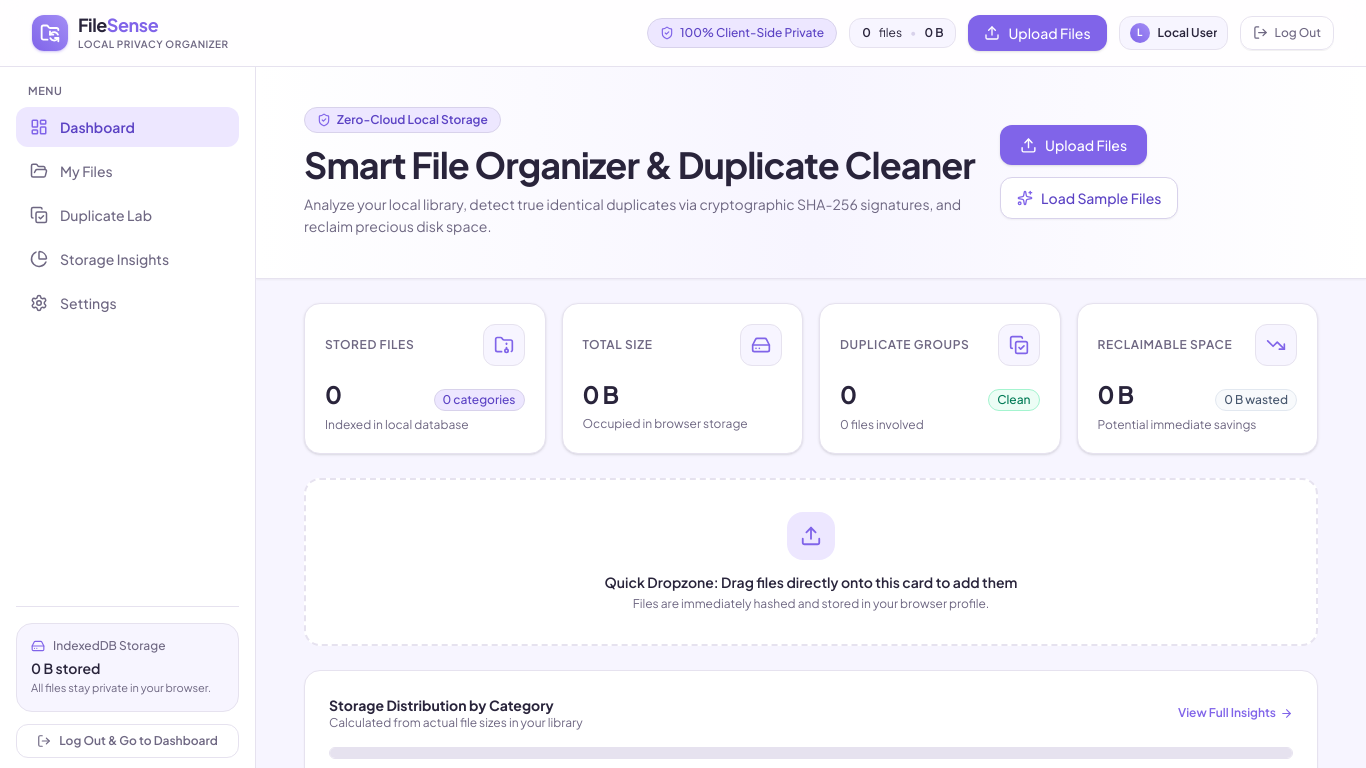
Test: User Interactions and App Integration › loads sample files and updates dashboard statistics
Expected: the heading "Smart File Organizer & Duplicate Cleaner" is shown, [304,144,976,184]
// Click "Load Sample Files"
Click the button "Load Sample Files": (1089,198) [1000,177,1178,219]
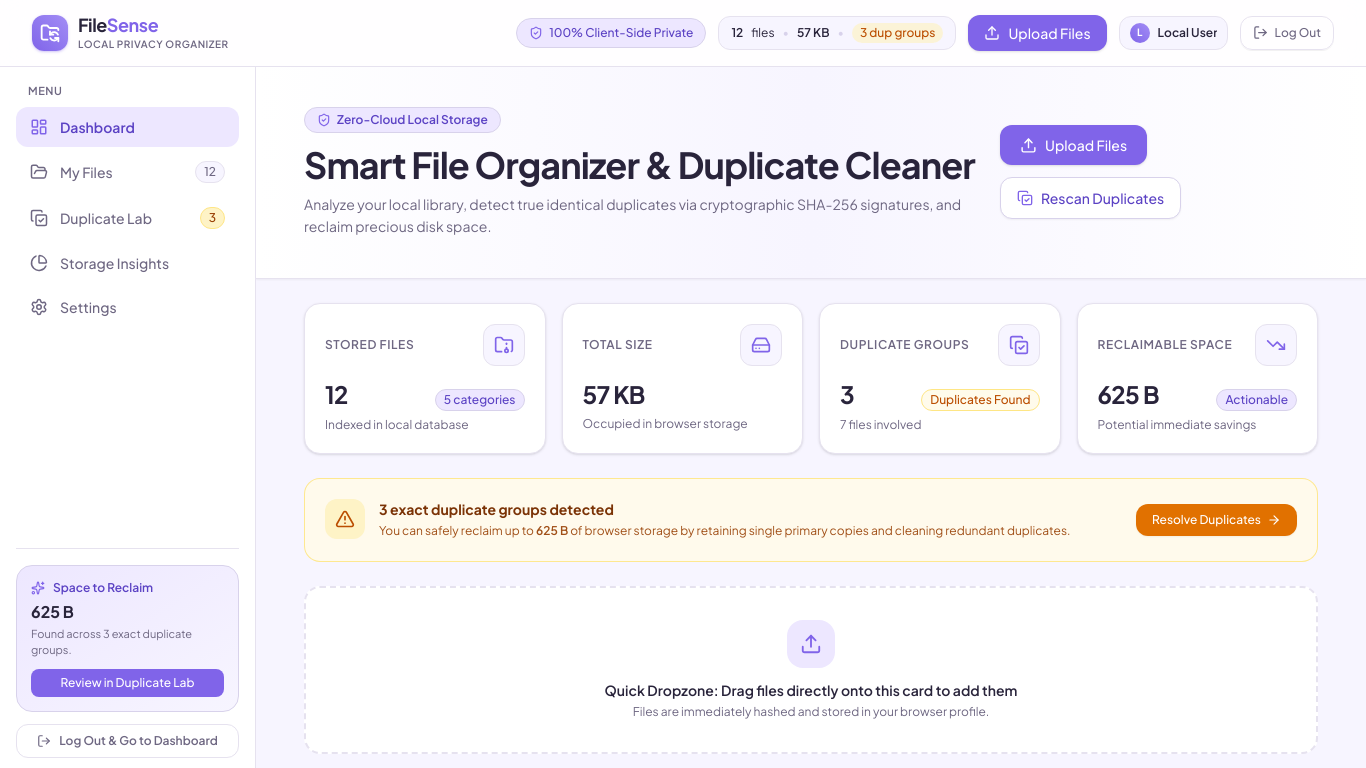
Expected: the text "Duplicates Found" is shown, [921,389,1040,411]
